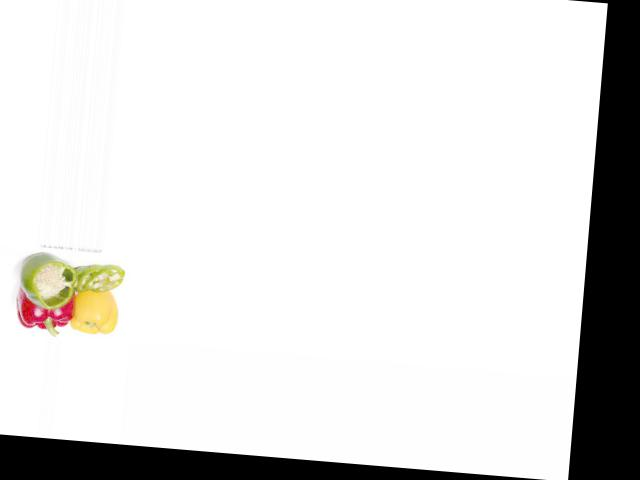bell_pepper: (12, 255, 78, 312)
